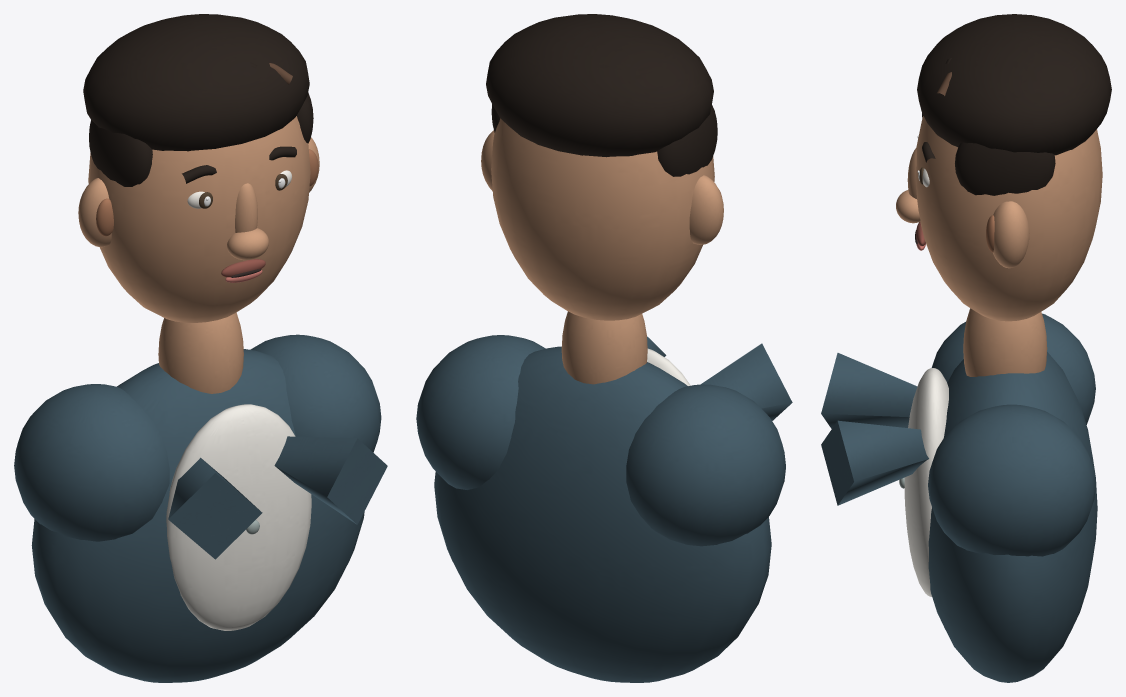
Rendered from rohan.glb.
3 views of the same model, side by side, from view 1: azimuth 30°, elevation 25°; view 2: azimuth 150°, elevation 25°; view 3: azimuth 270°, elevation 25° (orthographic). The views are drawn at different scales.
Parts seen in each view (by area): view 1: Body, Head, Face; view 2: Body, Head, Face; view 3: Body, Head, Face.
Part boxes in pixels (x1,y1,x2,y2): Body: (14,312,387,682); Head: (78,14,319,260); Face: (88,116,310,322); Body: (416,311,792,682); Head: (481,14,723,244); Face: (491,118,714,320); Body: (821,308,1097,682); Head: (896,14,1111,268); Face: (916,116,1102,321).
Size of the model in its own units: 2.32 by 4.16 by 1.73.
17 materials, 17 textured.
